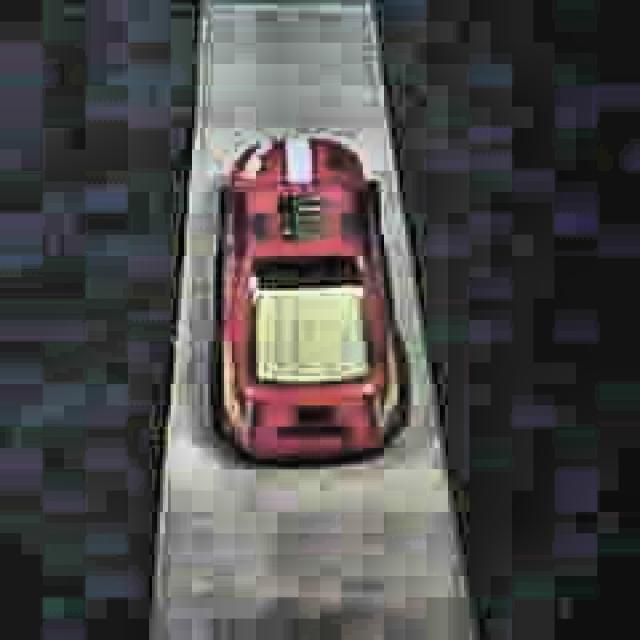car: (205, 132, 414, 472)
